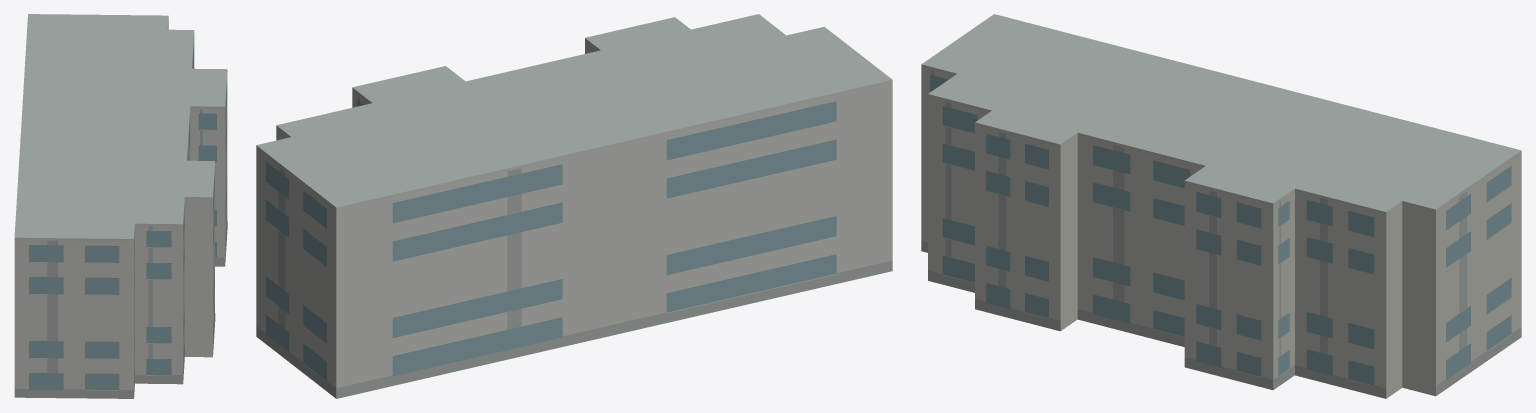
File: residential-2582aeeb-cf7f-4980-8e6a-61aa82d07982.glb
The picture shows the model from 3 angles, left to right: view 1: azimuth 30°, elevation 25°; view 2: azimuth 150°, elevation 25°; view 3: azimuth 270°, elevation 25°; orthographic projection. The views are drawn at different scales.
Parts seen in each view (by area): view 1: residential-2582aeeb-cf7f-4980-8e6a-61aa82d07982.tmp; view 2: residential-2582aeeb-cf7f-4980-8e6a-61aa82d07982.tmp; view 3: residential-2582aeeb-cf7f-4980-8e6a-61aa82d07982.tmp.
Boxes of the visible parts, bbox=[...] form: residential-2582aeeb-cf7f-4980-8e6a-61aa82d07982.tmp: bbox=[14, 14, 227, 398]; residential-2582aeeb-cf7f-4980-8e6a-61aa82d07982.tmp: bbox=[256, 14, 892, 398]; residential-2582aeeb-cf7f-4980-8e6a-61aa82d07982.tmp: bbox=[921, 14, 1521, 398].
Bounding box in the file's own units: 34.69 × 15.25 × 44.42.
